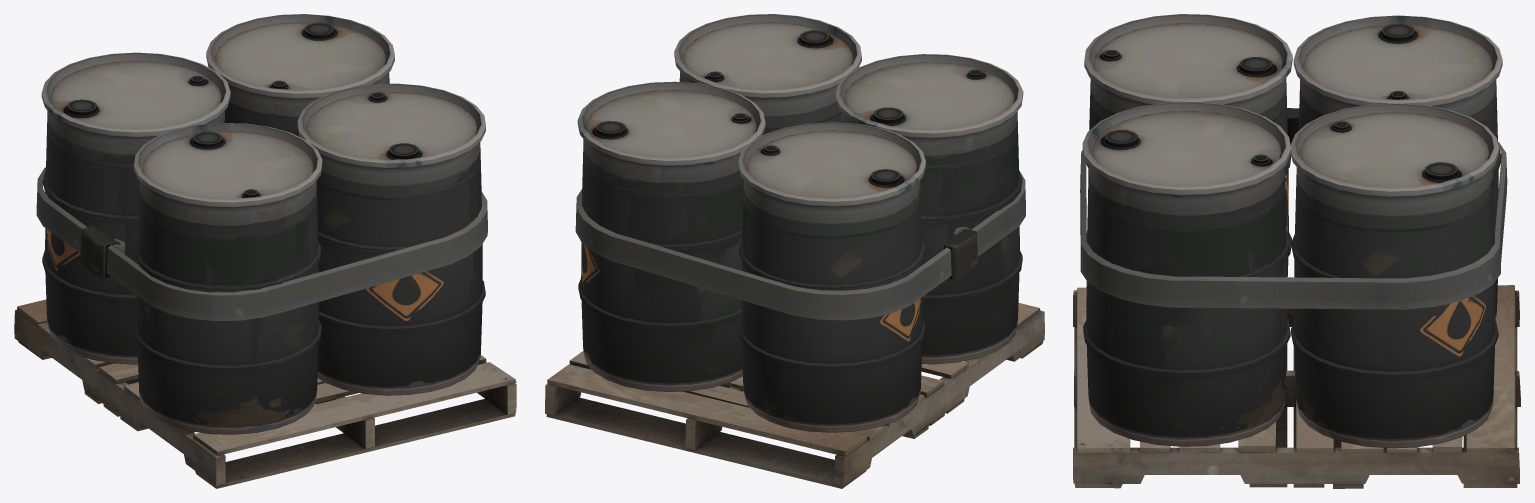
The model's file is barrel_cluster02b.glb.
The picture shows the model from 3 angles, left to right: view 1: azimuth 30°, elevation 25°; view 2: azimuth 150°, elevation 25°; view 3: azimuth 270°, elevation 25°; orthographic projection. The views are drawn at different scales.
Visible parts, largest first — view 1: barrel_cluster02b; view 2: barrel_cluster02b; view 3: barrel_cluster02b.
Part boxes in pixels (left/top/right/bottom): barrel_cluster02b: left=14, top=14, right=516, bottom=488; barrel_cluster02b: left=545, top=14, right=1044, bottom=488; barrel_cluster02b: left=1073, top=14, right=1520, bottom=488.
Bounding box in the file's own units: 1.39 × 1.07 × 1.43.
3 materials, 3 textured.
